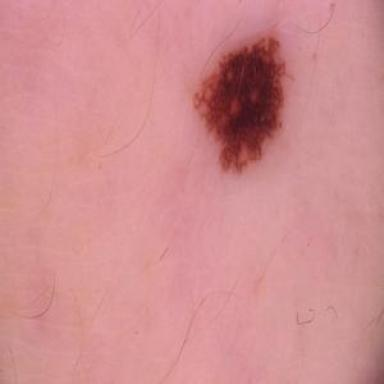Melanoma: (193, 31, 288, 173)
